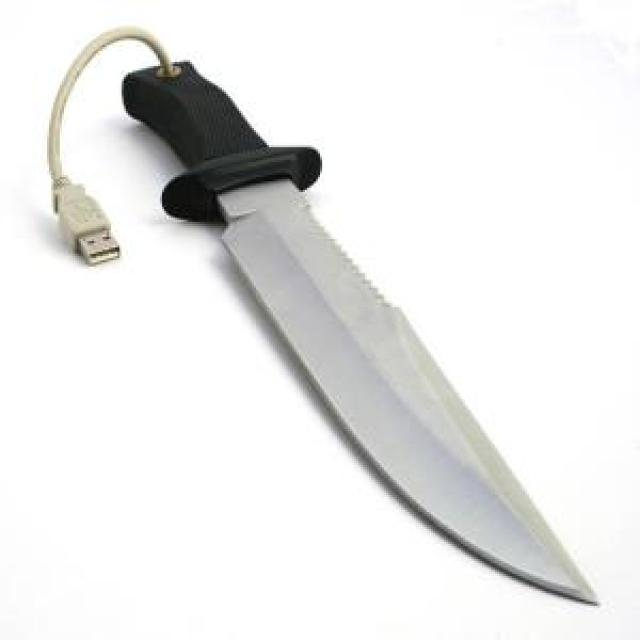knife: (120, 58, 600, 609)
